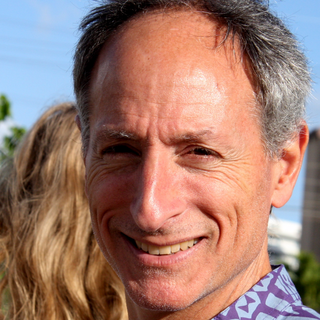eye: (168, 138, 226, 166), (92, 138, 143, 169)
